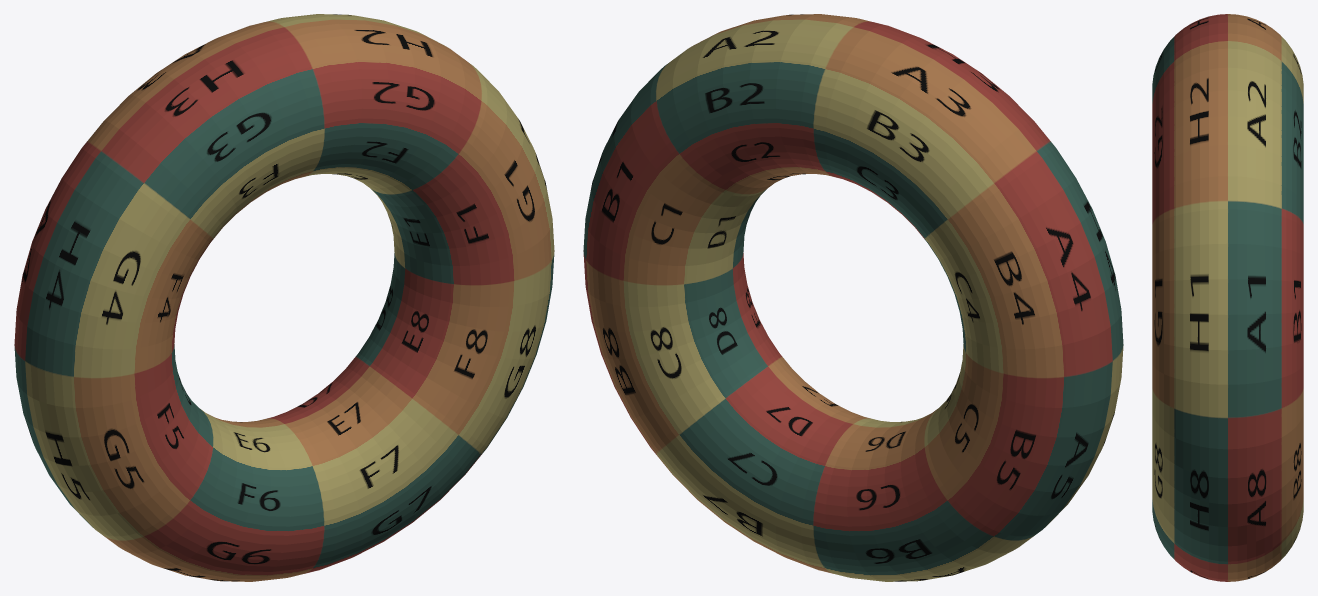
Rendered from texture_torus_R2_r8.glb.
3 views of the same model, side by side, from view 1: azimuth 30°, elevation 25°; view 2: azimuth 150°, elevation 25°; view 3: azimuth 270°, elevation 25° (orthographic). The views are drawn at different scales.
Parts seen in each view (by area): view 1: world; view 2: world; view 3: world.
Part boxes in pixels (x1,y1,x2,y2): world: (14, 14, 554, 581); world: (583, 14, 1123, 581); world: (1152, 14, 1303, 581).
Bounding box in the file's own units: 15.47 × 15.44 × 4.13.
1 material, 1 textured.
